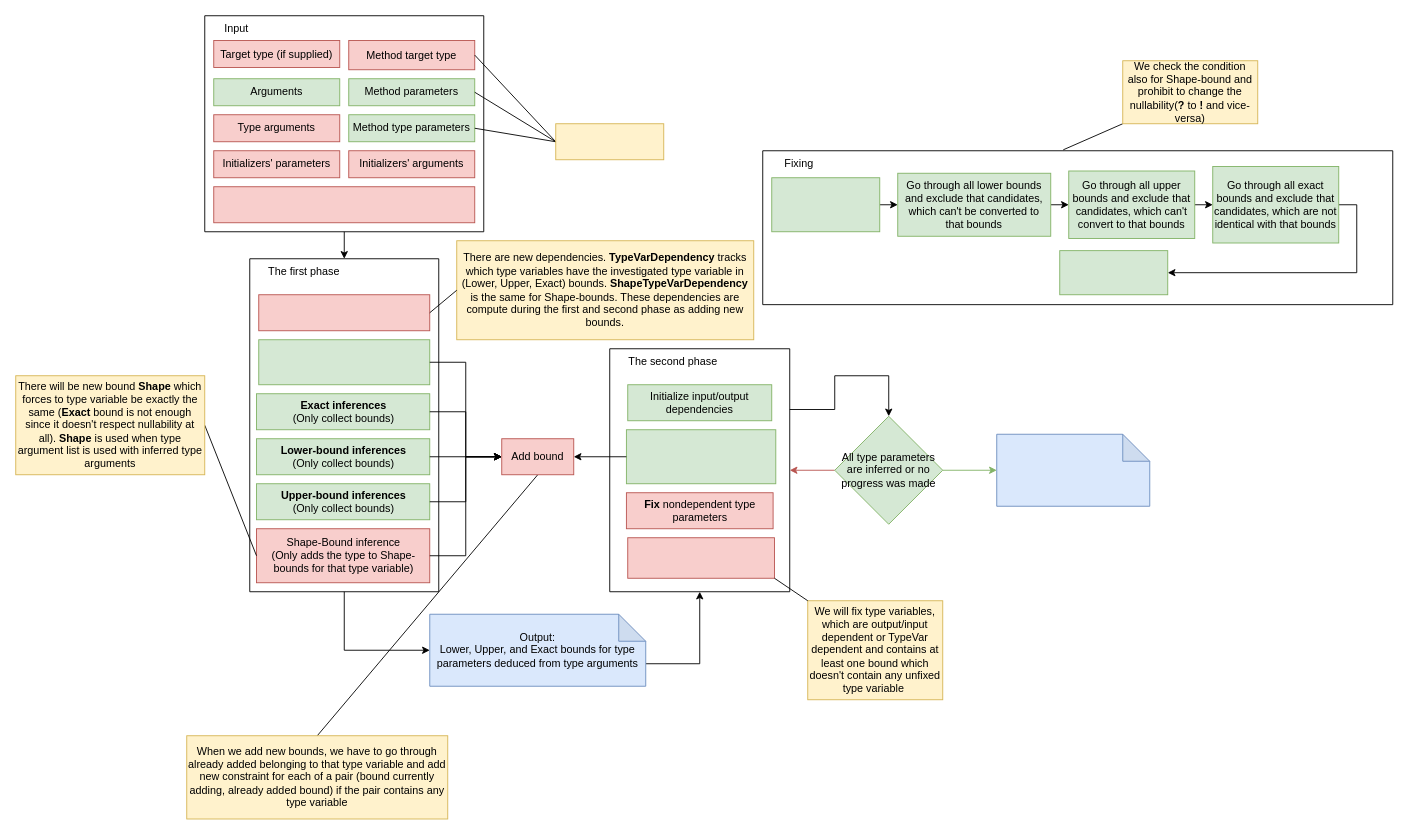
Image size: 1409x835. Some labels were removed from this diagram. The centre of each missing label's shape, as x and y in pixels:
"Collect all candidates from bounds of the type parameter" belongs at (x=825, y=204).
"Determine the one candidate if you can" belongs at (x=1113, y=272).
"Explicitly parameter type inferences (Typed anonymous functions)" belongs at (x=344, y=362).
"Fix dependent type parameters which has at least one bound" belongs at (x=700, y=557).
"Initialize bound dependencies" belongs at (x=344, y=312).
"Or equivalence for constructor" belongs at (x=609, y=141).
"Output type inferences (anonymous functions without explicitly typed parameters)" belongs at (x=701, y=456).
"Output: MethodTypeInferenceResult ( MethodTypeInference.cs )" belongs at (x=1073, y=469).
"Type variables(type parameters + inferred type arguments)" belongs at (x=344, y=204).
